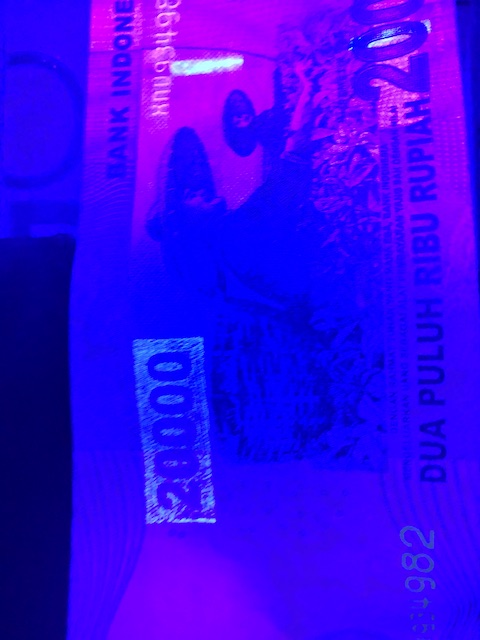20_RIBU_ASLI: (128, 330, 217, 525)
